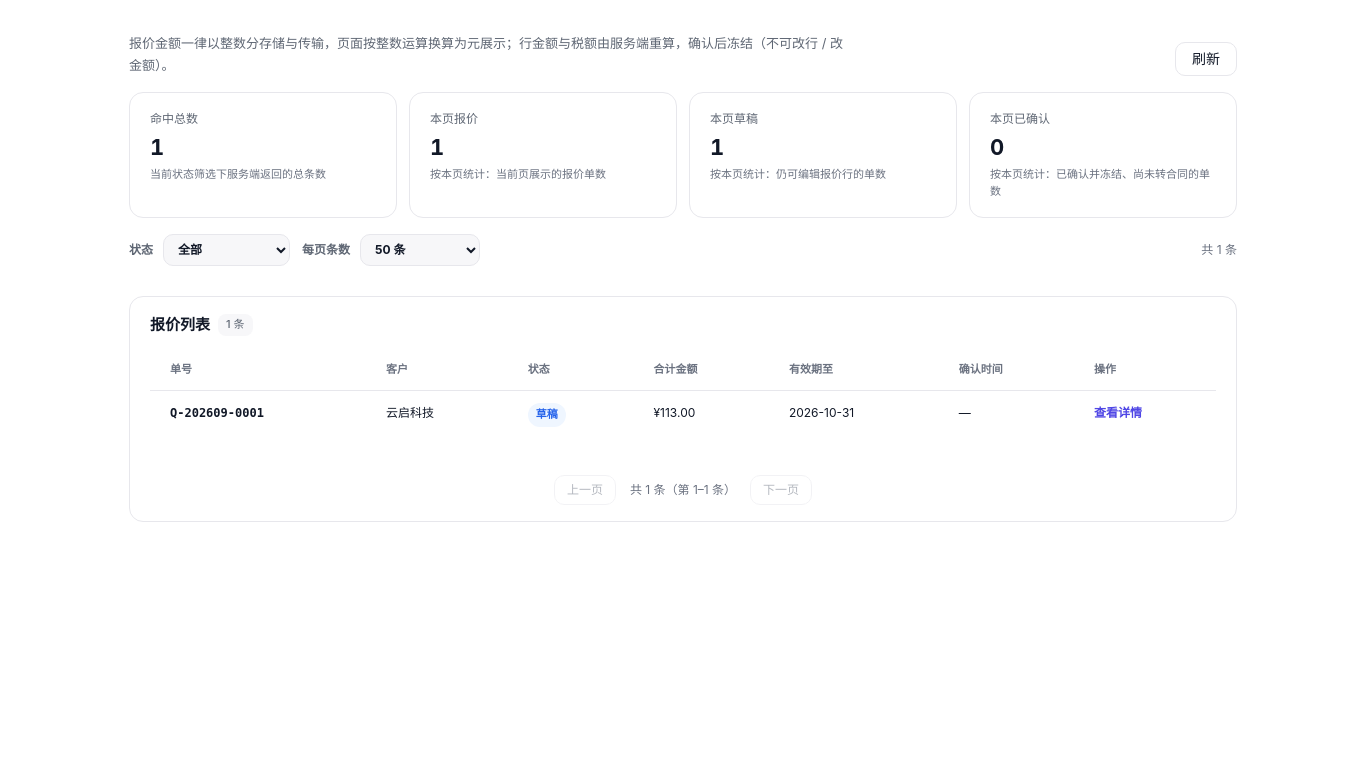
CrmQuotesPage › surfaces a 409 conflict when the server refuses a frozen write
Click the button "查看详情". click: point(1118, 413)
box: left=1094, top=403, right=1142, bottom=422
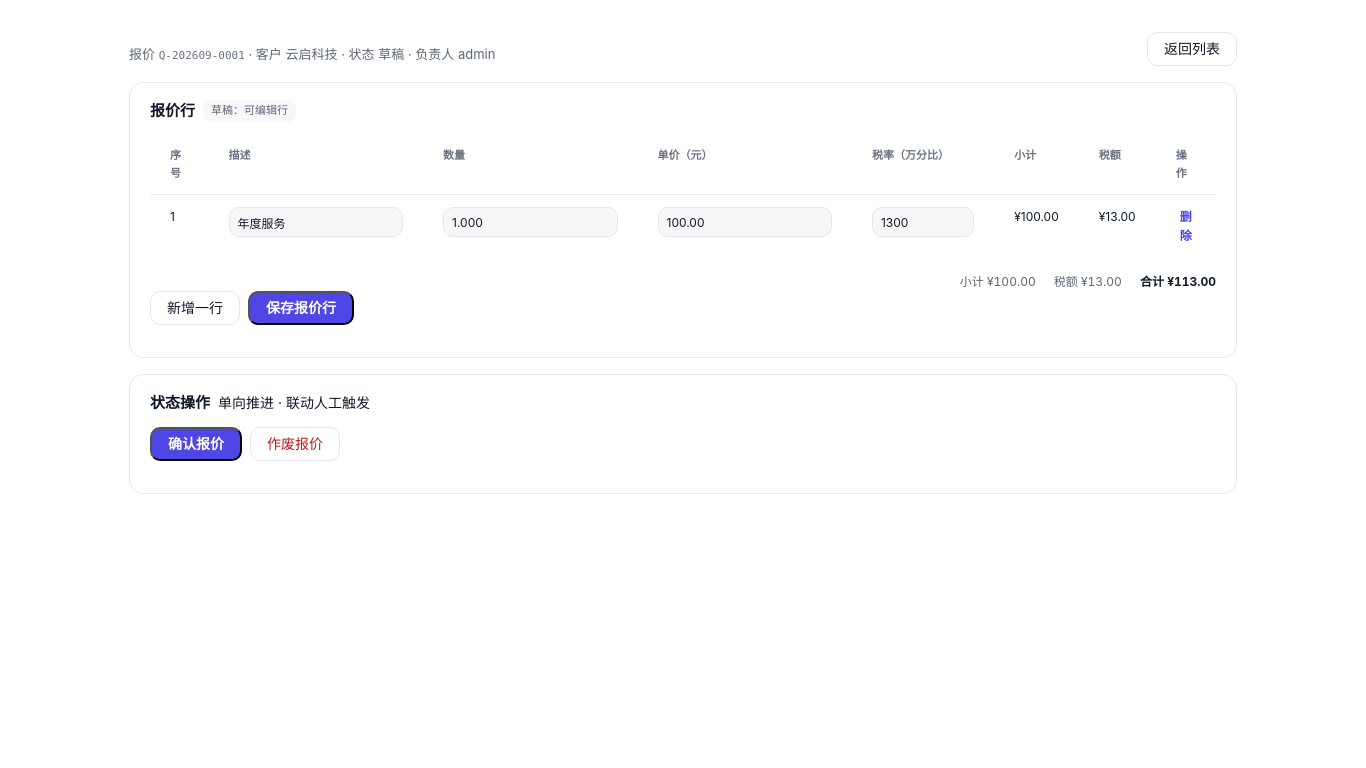
Click the button "保存报价行". click: point(301, 308)
box: left=248, top=291, right=354, bottom=325
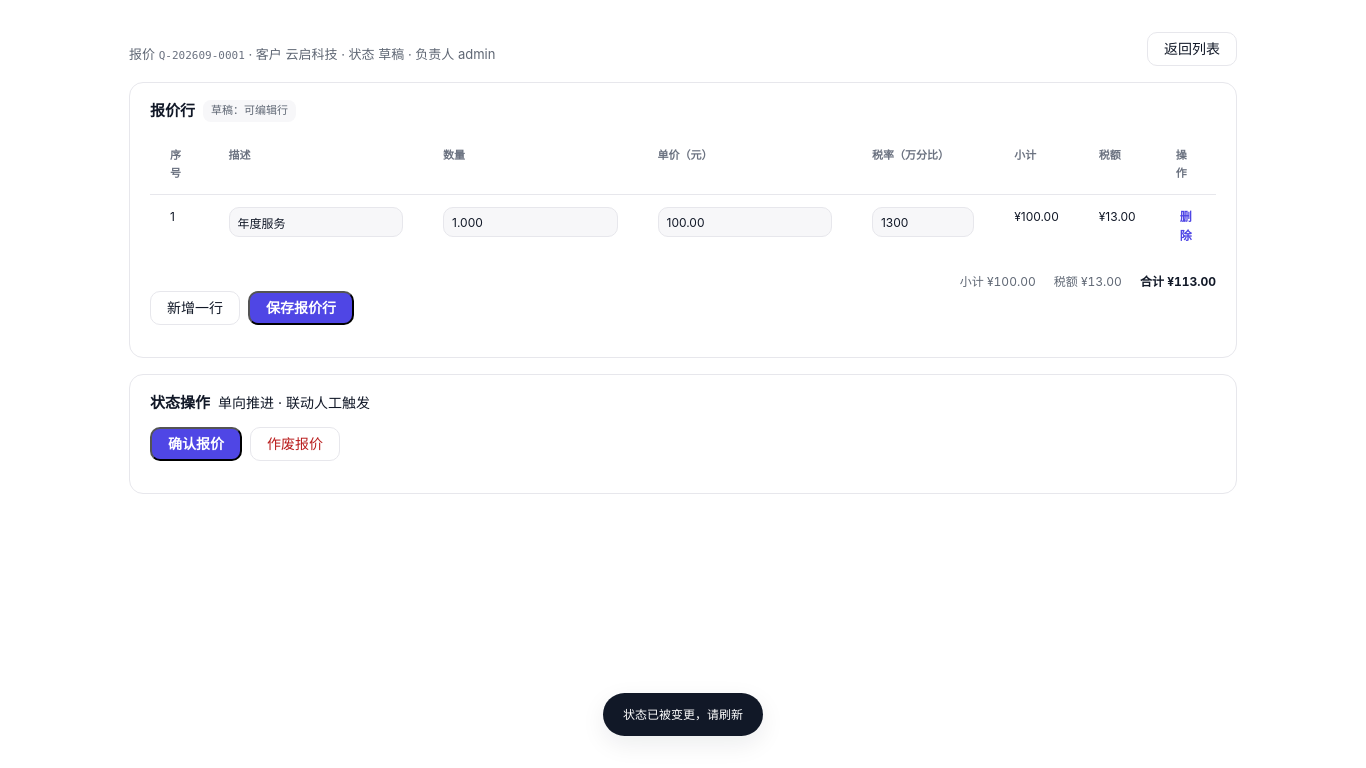
Now the text "状态已被变更，请刷新" is shown, box left=623, top=705, right=743, bottom=724
